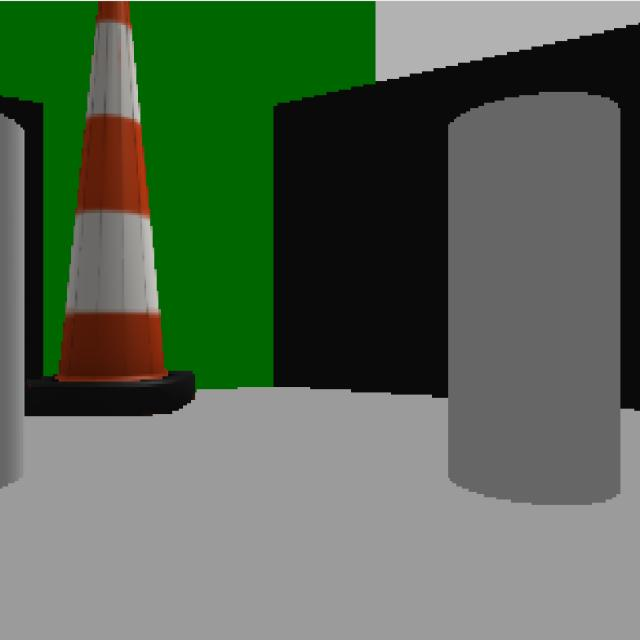Traffic Cone: (32, 4, 200, 416)
